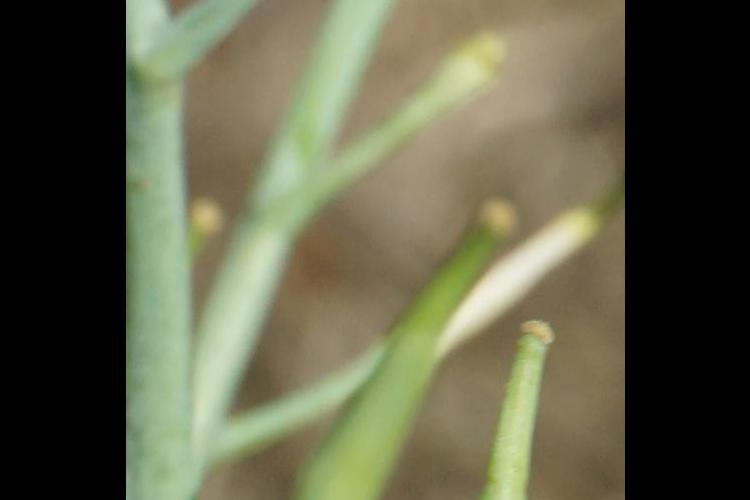pod: (253, 207, 487, 500), (458, 293, 564, 500)
